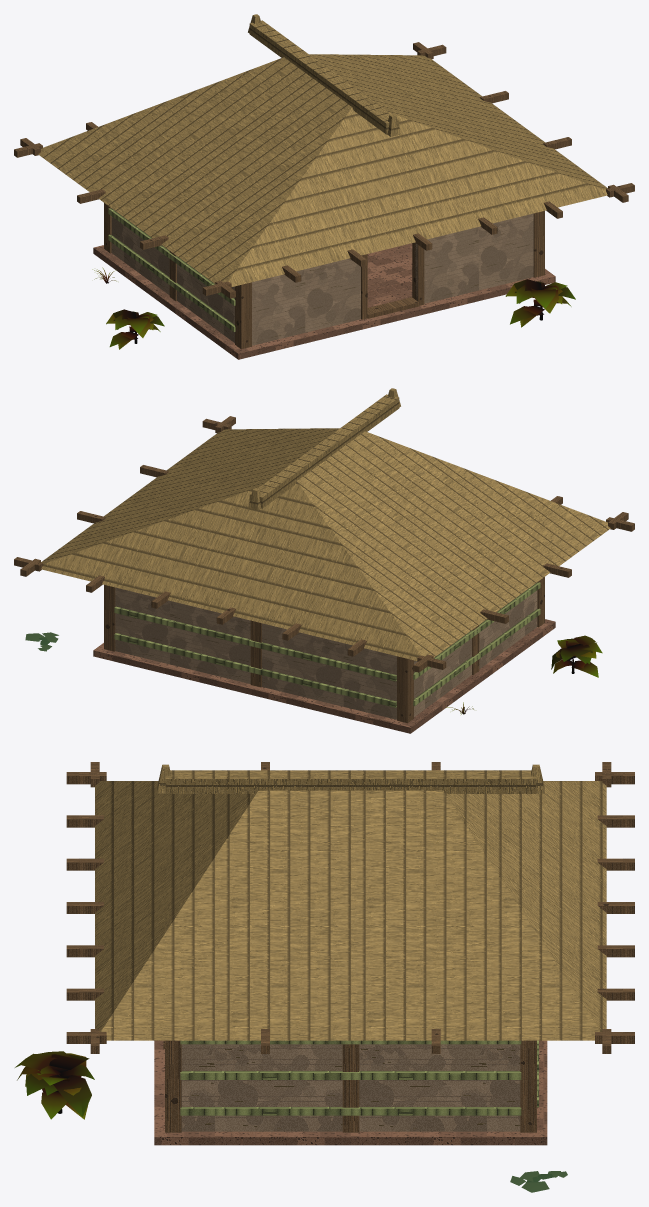
The model's file is nha_tranh_01.glb.
3 views of the same model, one above another, from view 1: azimuth 30°, elevation 25°; view 2: azimuth 150°, elevation 25°; view 3: azimuth 270°, elevation 25° (orthographic). The views are drawn at different scales.
Visible parts, largest first — view 1: nha_tranh_01, nha_tranh_01_veg_00_bush_a, nha_tranh_01_veg_01_bush_a; view 2: nha_tranh_01, nha_tranh_01_veg_01_bush_a; view 3: nha_tranh_01, nha_tranh_01_veg_00_bush_a, nha_tranh_01_veg_03_moss_a.
Boxes of the visible parts, box(x1,y1,x2,y2) form: nha_tranh_01: box(14, 14, 634, 359); nha_tranh_01_veg_00_bush_a: box(505, 279, 575, 327); nha_tranh_01_veg_01_bush_a: box(106, 309, 164, 349); nha_tranh_01: box(14, 388, 634, 733); nha_tranh_01_veg_01_bush_a: box(551, 635, 602, 677); nha_tranh_01: box(66, 762, 634, 1145); nha_tranh_01_veg_00_bush_a: box(15, 1051, 94, 1119); nha_tranh_01_veg_03_moss_a: box(510, 1171, 567, 1192).
Size of the model in its own units: 9.87 by 4.01 by 8.22.
8 materials, 8 textured.
